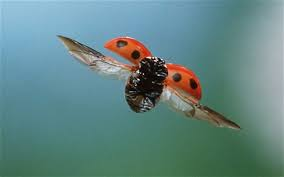insect: (54, 35, 241, 131)
